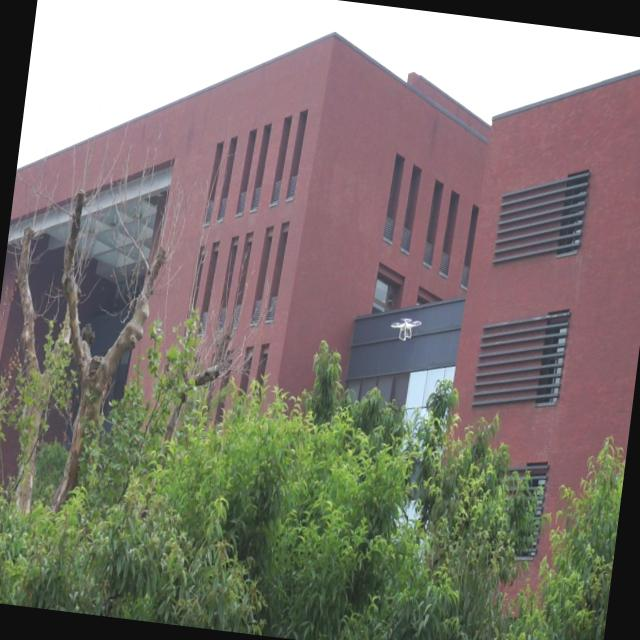drone: (387, 311, 425, 348)
